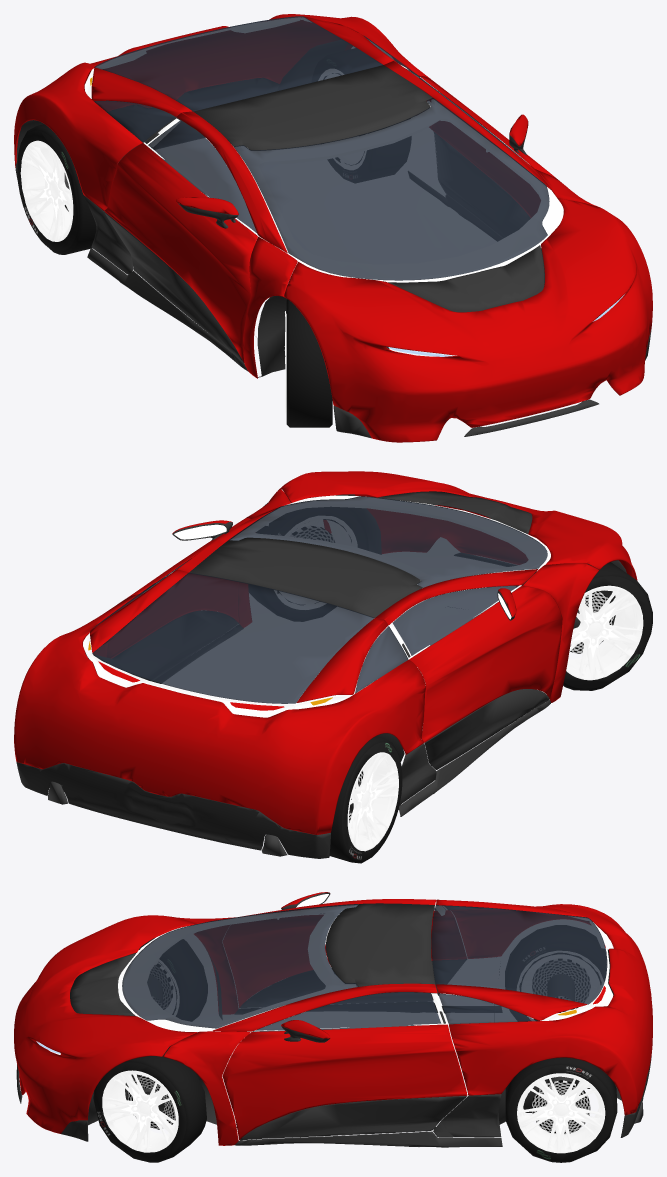
The model's file is car_hi.glb.
The picture shows the model from 3 angles, top to bottom: view 1: azimuth 30°, elevation 25°; view 2: azimuth 150°, elevation 25°; view 3: azimuth 270°, elevation 25°; orthographic projection. The views are drawn at different scales.
Parts seen in each view (by area): view 1: BodyRearPanelsColor1, BodyWindshield, BodyRoofPanel, BodyWindshieldGasket, object 12, WheelFrontLRim, BodyUnderside; view 2: BodyRearPanelsColor1, BodyWindshield, BodyRoofPanel, WheelFrontLRim, object 12, BodyWindshieldGasket, BodyUnderside, WheelFrontLBrakeDisc, BodyDoorRMirror; view 3: BodyRearPanelsColor1, BodyWindshield, BodyRoofPanel, object 12, WheelFrontLRim, BodyWindshieldGasket, WheelFrontLBrakeDisc, BodyUnderside.
Part boxes in pixels (box(x1,y1,x2,y2)): BodyRearPanelsColor1: box(14, 14, 652, 442); BodyWindshield: box(94, 16, 549, 280); BodyRoofPanel: box(15, 65, 651, 438); BodyWindshieldGasket: box(84, 18, 563, 282); object 12: box(17, 48, 602, 427); WheelFrontLRim: box(20, 69, 365, 414); BodyUnderside: box(16, 40, 544, 377); BodyRearPanelsColor1: box(14, 471, 637, 834); BodyWindshield: box(92, 496, 547, 703); BodyRoofPanel: box(16, 491, 550, 858); WheelFrontLRim: box(274, 516, 643, 851); object 12: box(49, 495, 652, 863); BodyWindshieldGasket: box(83, 495, 550, 717); BodyUnderside: box(48, 494, 626, 856); WheelFrontLBrakeDisc: box(291, 526, 613, 822); BodyDoorRMirror: box(174, 524, 511, 619); BodyRearPanelsColor1: box(14, 892, 652, 1145); BodyWindshield: box(122, 904, 607, 1031); BodyRoofPanel: box(16, 892, 651, 1147); object 12: box(93, 925, 617, 1162); WheelFrontLRim: box(102, 950, 605, 1153); BodyWindshieldGasket: box(118, 901, 613, 1032); WheelFrontLBrakeDisc: box(127, 959, 590, 1134); BodyUnderside: box(87, 966, 643, 1129).
Bounding box in the file's own units: 2.54 × 1.15 × 4.36.
Materials: 14 (2 with a texture image).
